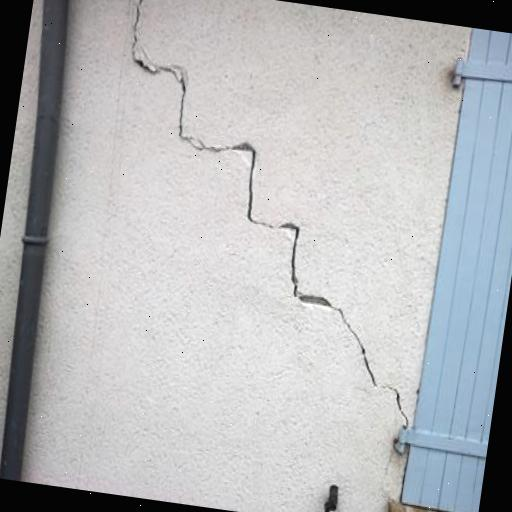spalling: (106, 0, 388, 393)
